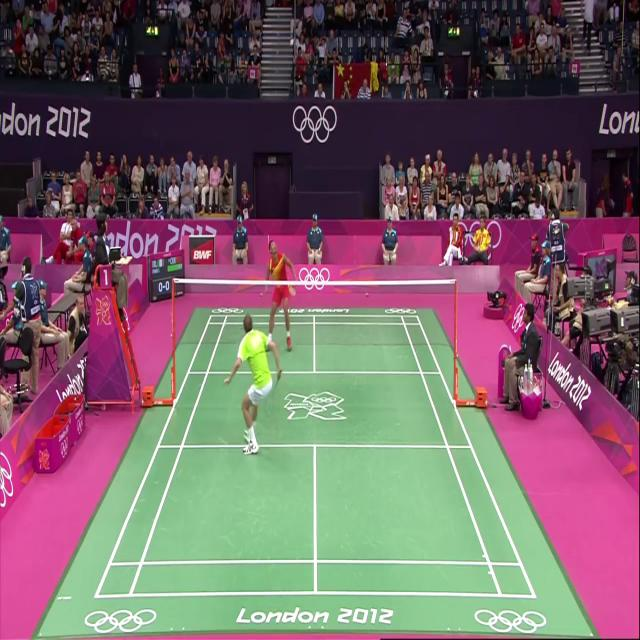Net: (172, 278, 461, 347)
Player1: (220, 310, 282, 473)
Player2: (261, 235, 297, 358)
Shuttlecock: (286, 31, 297, 49)
